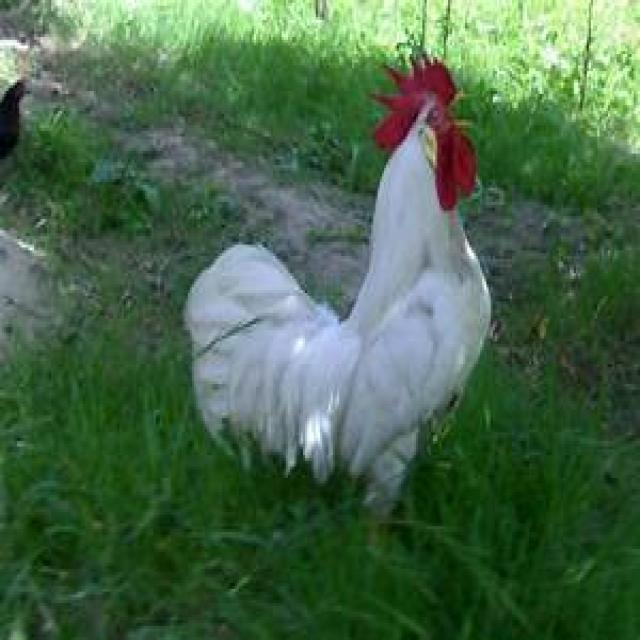hen: (181, 54, 493, 523)
